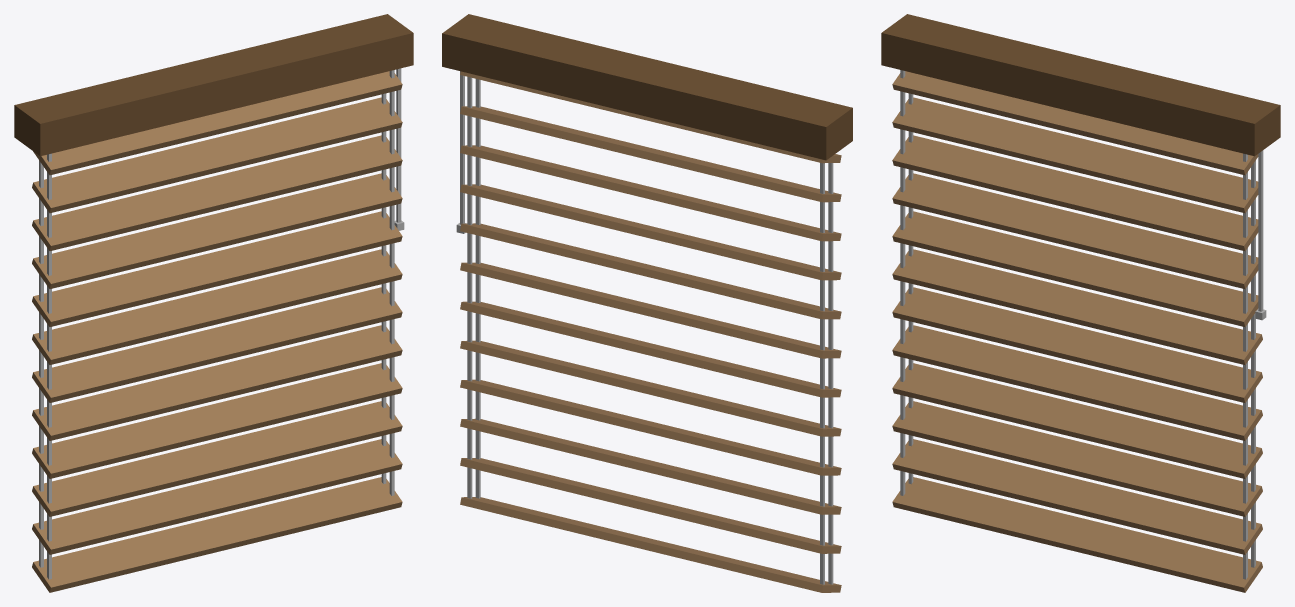
File: Curtains10_C3.fbx
3 views of the same model, side by side, from view 1: azimuth 30°, elevation 25°; view 2: azimuth 150°, elevation 25°; view 3: azimuth 330°, elevation 25° (orthographic). The views are drawn at different scales.
Parts seen in each view (by area): view 1: Curtains10_C3; view 2: Curtains10_C3; view 3: Curtains10_C3.
Part boxes in pixels (x1,y1,x2,y2): Curtains10_C3: [14, 14, 413, 592]; Curtains10_C3: [442, 14, 852, 592]; Curtains10_C3: [881, 14, 1280, 592].
Bounding box in the file's own units: 106 × 128 × 12.67.
